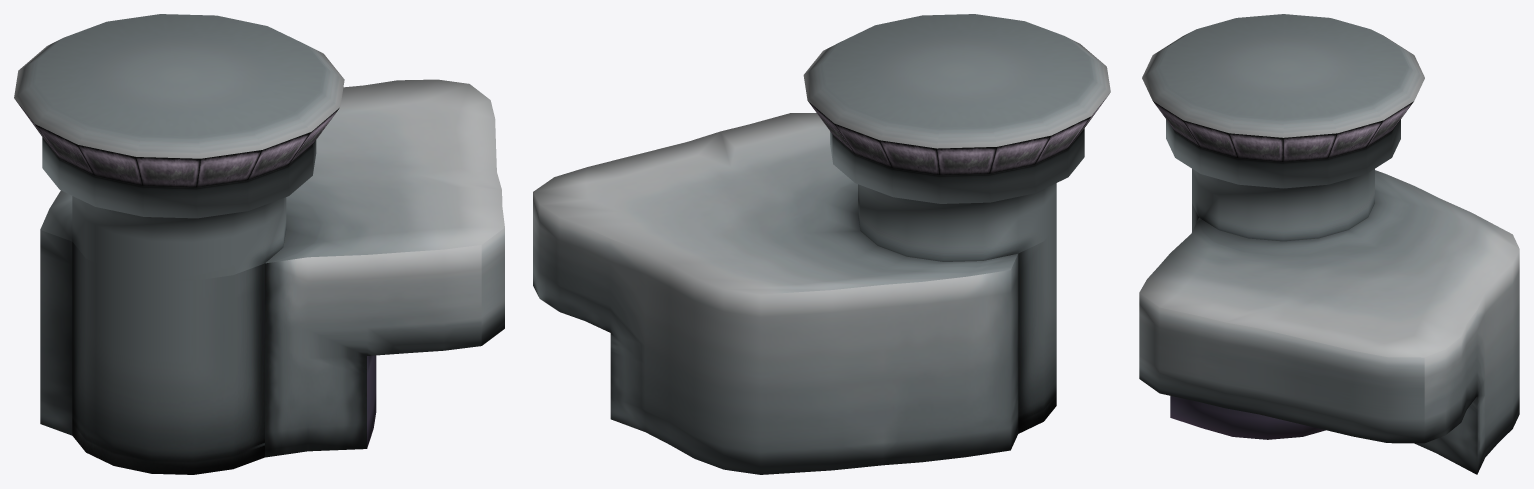
The model's file is military_section.DAE.
The picture shows the model from 3 angles, left to right: view 1: azimuth 30°, elevation 25°; view 2: azimuth 150°, elevation 25°; view 3: azimuth 270°, elevation 25°; orthographic projection. The views are drawn at different scales.
Parts seen in each view (by area): view 1: Military_Section; view 2: Military_Section; view 3: Military_Section.
Boxes of the visible parts, left/top/right/bottom form: Military_Section: left=14, top=14, right=504, bottom=474; Military_Section: left=533, top=14, right=1110, bottom=474; Military_Section: left=1139, top=14, right=1519, bottom=474.
Bounding box in the file's own units: 262 × 172 × 197.
